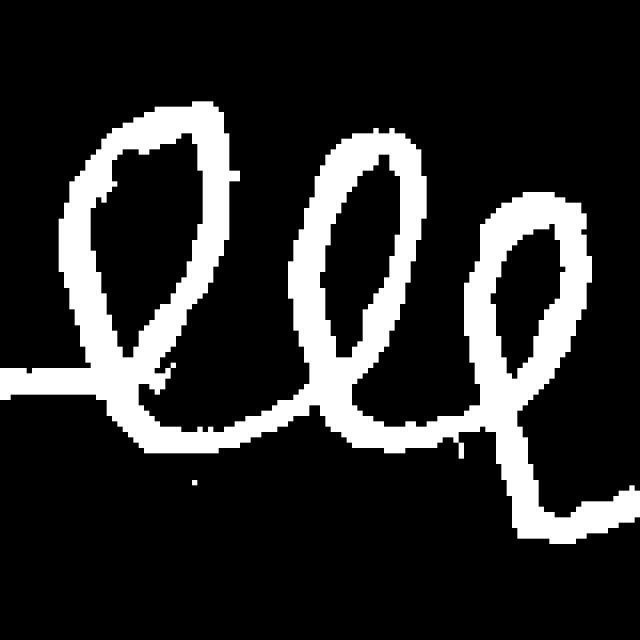inductor: (42, 85, 640, 538)
